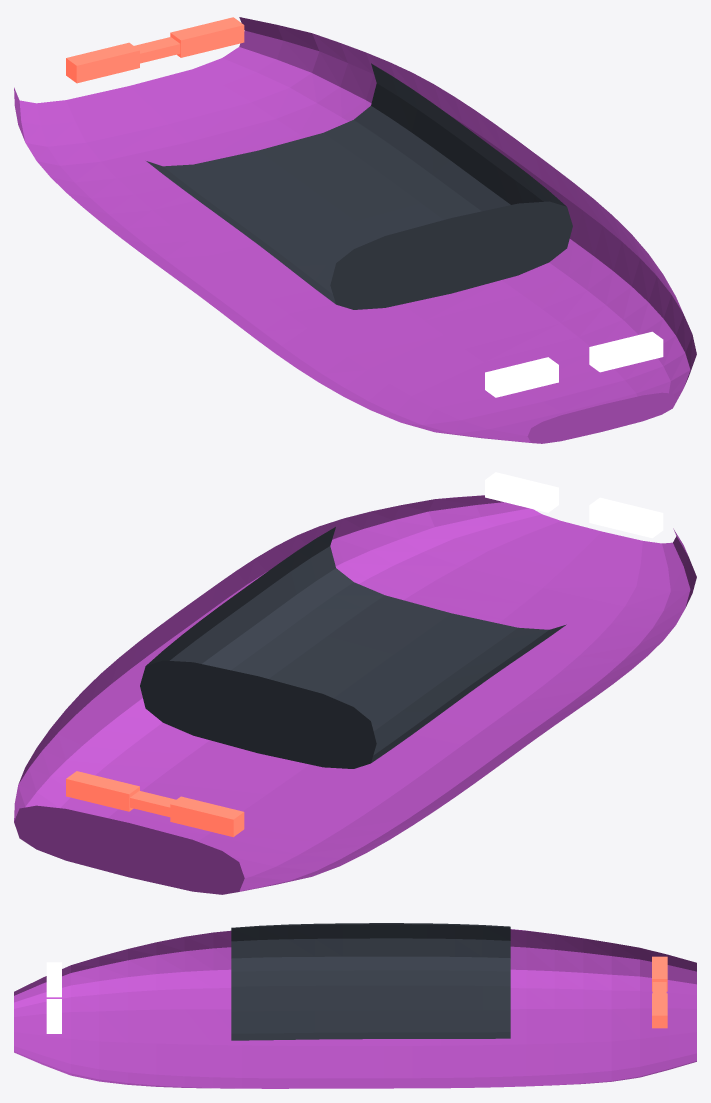
The model's file is roadster-4.glb.
3 renders of one model, top to bottom at view 1: azimuth 30°, elevation 25°; view 2: azimuth 150°, elevation 25°; view 3: azimuth 270°, elevation 25°, orthographic. The views are drawn at different scales.
Size of the model in its own units: 1.91 by 0.6702 by 4.4.
